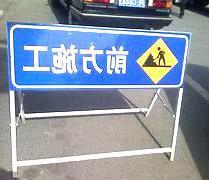sign: (9, 25, 190, 88)
